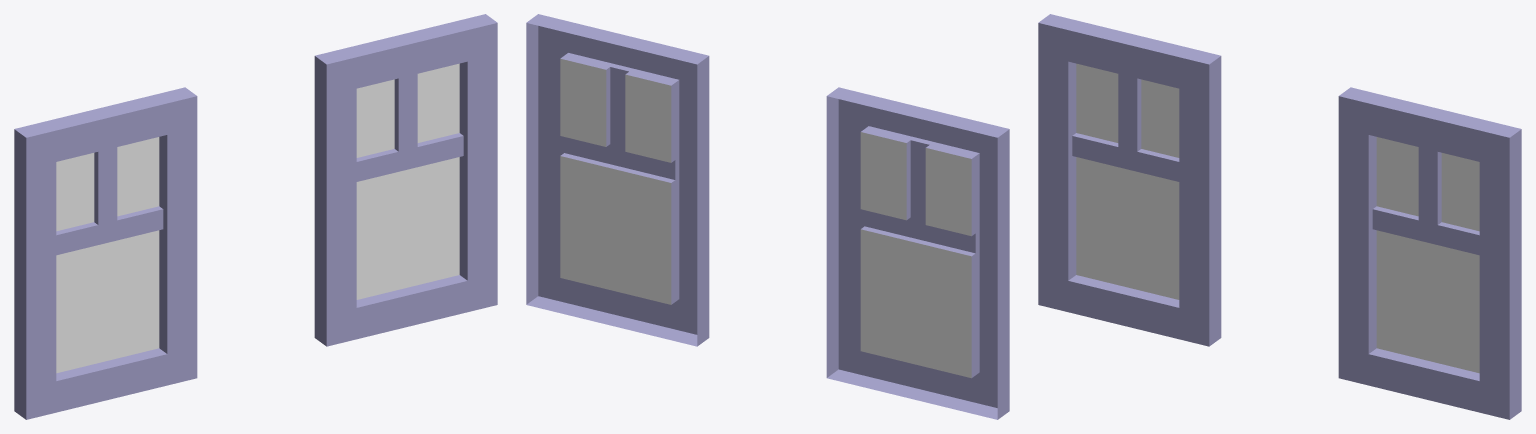
Rendered from window3.obj.
3 renders of one model, left to right at view 1: azimuth 30°, elevation 25°; view 2: azimuth 150°, elevation 25°; view 3: azimuth 330°, elevation 25°, orthographic.
Parts seen in each view (by area): view 1: mergedBlocks; view 2: mergedBlocks; view 3: mergedBlocks.
Part boxes in pixels (bbox=[...]): mergedBlocks: bbox=[14, 14, 497, 419]; mergedBlocks: bbox=[526, 14, 1009, 419]; mergedBlocks: bbox=[1038, 14, 1521, 419].
Size of the model in its own units: 0.678 by 0.3877 by 0.03.
